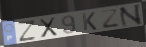9: (61, 15, 78, 35)
K: (81, 12, 99, 32)
N: (118, 3, 144, 28)
X: (38, 16, 59, 40)
Z: (17, 19, 38, 43), (100, 9, 121, 30)
